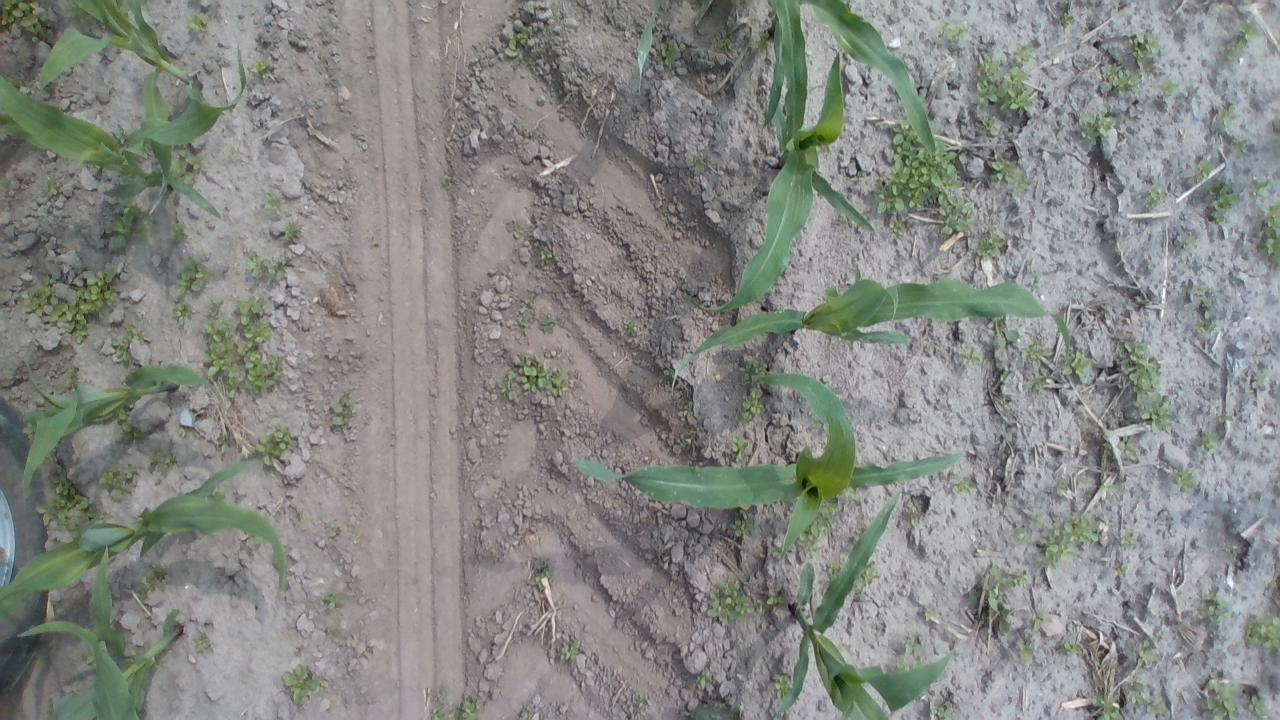Maize: (570, 372, 972, 561), (680, 0, 873, 315), (0, 458, 287, 624), (0, 44, 246, 219), (780, 484, 956, 720), (669, 279, 1072, 375), (34, 0, 205, 215), (17, 358, 223, 504), (17, 544, 185, 720), (761, 0, 937, 156)
Weeds: (23, 269, 121, 343), (892, 122, 962, 210), (236, 294, 284, 389), (36, 470, 104, 534), (967, 566, 1026, 633), (495, 352, 573, 400), (976, 62, 1036, 114), (1121, 339, 1164, 399), (203, 315, 238, 387), (109, 204, 158, 252), (705, 576, 752, 624), (0, 0, 51, 44), (1046, 512, 1102, 548), (254, 425, 298, 468), (282, 663, 328, 704), (429, 688, 485, 720), (1253, 204, 1280, 267), (798, 507, 834, 554), (1204, 177, 1237, 228), (939, 190, 975, 236), (98, 464, 140, 502), (174, 258, 215, 296), (1224, 17, 1260, 60), (1201, 679, 1238, 720), (990, 156, 1029, 194), (1243, 610, 1280, 650), (501, 29, 536, 71), (676, 698, 742, 720), (1078, 110, 1118, 146), (132, 564, 170, 600), (1140, 393, 1174, 432), (246, 251, 287, 281), (1060, 348, 1092, 384), (1200, 590, 1230, 628), (1014, 512, 1046, 546), (1104, 66, 1140, 96), (1088, 689, 1122, 720), (1130, 29, 1160, 63), (1035, 540, 1072, 567), (975, 228, 1007, 259), (993, 320, 1022, 354), (739, 388, 766, 423), (118, 417, 152, 444), (330, 391, 354, 428), (147, 445, 176, 474), (178, 150, 207, 178), (741, 359, 768, 387), (186, 10, 212, 39), (1208, 102, 1238, 127), (529, 559, 553, 590), (655, 36, 678, 68), (1012, 638, 1039, 664), (1023, 339, 1046, 369), (1135, 639, 1157, 670), (938, 22, 969, 44), (872, 182, 892, 215), (1026, 368, 1052, 393), (856, 562, 880, 589), (1010, 43, 1037, 67), (1196, 428, 1220, 455), (1124, 678, 1147, 706), (758, 590, 784, 614), (726, 436, 750, 462), (1196, 311, 1218, 339), (730, 513, 754, 538), (1245, 693, 1270, 717), (112, 336, 135, 362), (1144, 180, 1166, 207), (66, 0, 92, 22), (1118, 436, 1140, 462), (322, 589, 346, 612), (900, 634, 924, 657), (1174, 468, 1197, 492), (772, 673, 792, 700), (504, 218, 528, 240), (1102, 441, 1120, 470), (1246, 176, 1269, 198), (126, 324, 150, 345), (684, 428, 704, 453), (928, 701, 954, 720), (1159, 80, 1181, 102), (950, 475, 973, 496), (282, 220, 302, 244), (172, 302, 192, 326), (253, 56, 274, 78), (904, 506, 925, 528), (558, 642, 580, 662), (959, 347, 981, 367), (1028, 611, 1050, 631), (696, 666, 714, 690), (1098, 478, 1123, 495), (264, 194, 284, 215), (1196, 158, 1215, 180), (167, 224, 186, 246), (752, 32, 771, 54), (1060, 638, 1083, 656), (980, 114, 1000, 134), (1145, 696, 1166, 715), (634, 693, 654, 712), (714, 30, 732, 51), (1054, 477, 1072, 498), (686, 156, 708, 173), (895, 660, 926, 672), (1118, 531, 1136, 551), (1230, 138, 1250, 156), (195, 633, 212, 654), (45, 178, 62, 198), (537, 314, 555, 332), (676, 401, 694, 419), (888, 219, 906, 237), (538, 248, 554, 268), (68, 366, 80, 392), (23, 417, 37, 439), (1250, 373, 1266, 392), (826, 563, 842, 582), (622, 316, 638, 334), (328, 522, 342, 541), (1112, 564, 1128, 580), (1186, 84, 1202, 100), (1060, 12, 1078, 26), (923, 607, 938, 623), (1190, 285, 1210, 297), (1216, 410, 1233, 424), (844, 487, 860, 500), (1074, 476, 1094, 486), (368, 234, 382, 248), (523, 294, 537, 308), (518, 316, 532, 330), (814, 418, 828, 432), (1181, 236, 1194, 250), (852, 170, 865, 184), (444, 170, 454, 187), (521, 709, 534, 720), (662, 368, 676, 378), (1276, 479, 1280, 490)
